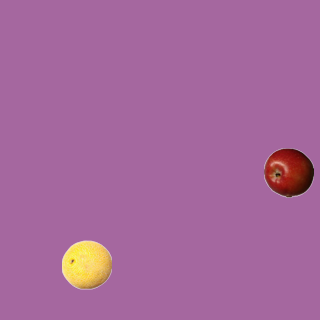Apple Braeburn: (263, 147, 313, 197)
Cantaloupe 1: (61, 239, 111, 289)
